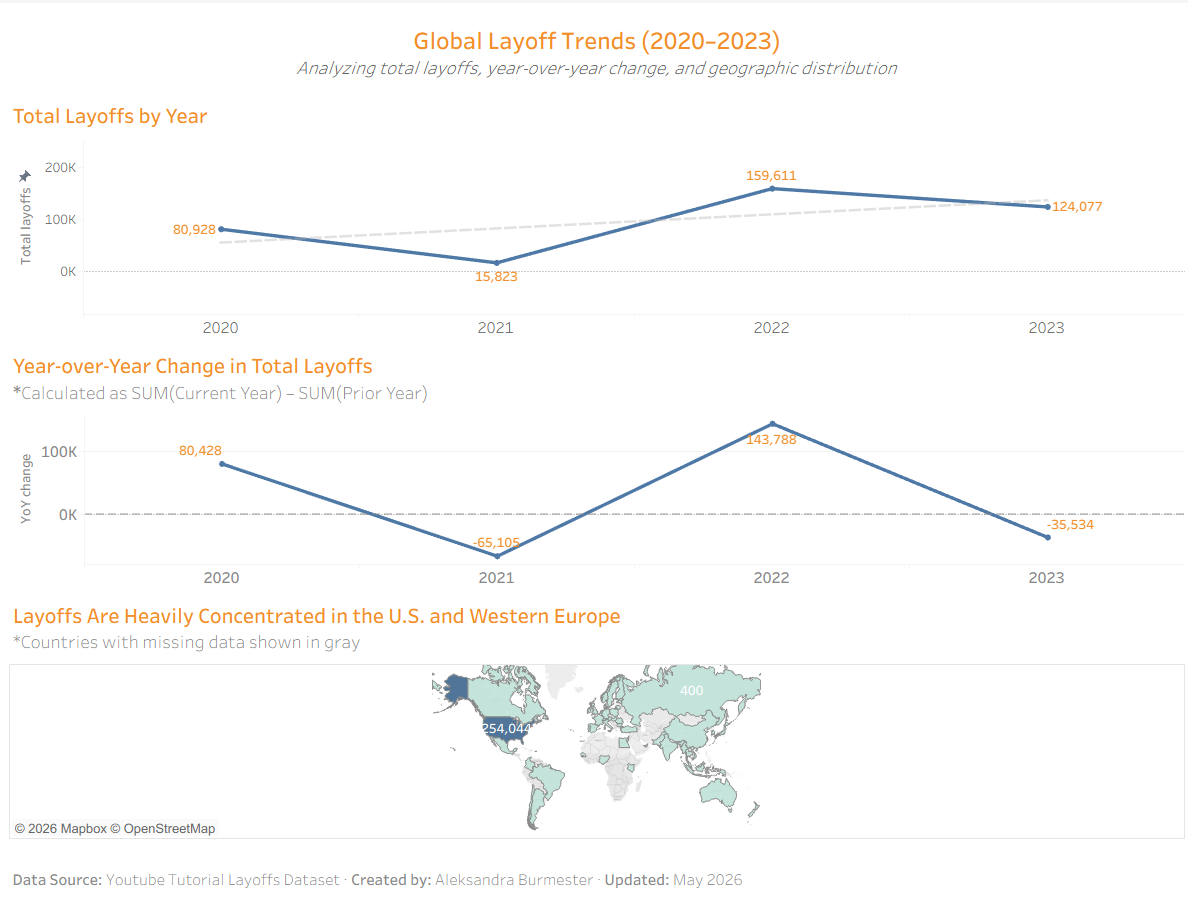

Layout of this report page (visuals, bound fields, positions):
{"tool":"tableau","page":{"name":"Dashboard","canvas":[1200,900],"ordinal":0},"visuals":[{"type":"title","box":[8,8,1184,82]},{"type":"worksheet","title":"year","mark":"Automatic","rows":["total_laid_off"],"cols":["date"],"box":[8,90,1184,250]},{"type":"worksheet","title":"YoY change","mark":"Automatic","rows":["Calculation_1618762658912657409"],"cols":["date"],"box":[8,340,1184,250]},{"type":"worksheet","title":"country_map","mark":"Automatic","box":[8,590,1184,250]},{"type":"text","box":[8,860,1184,32]}]}

Visuals, with their boxes in screenshot pixels (x1, y1, x2, y2), scaled from the page's 1200x900 canvas onto the 1188x897 screenshot:
title: detection(8, 8, 1180, 90)
"year" worksheet: detection(8, 90, 1180, 339)
"YoY change" worksheet: detection(8, 339, 1180, 588)
"country_map" worksheet: detection(8, 588, 1180, 837)
text: detection(8, 857, 1180, 889)
